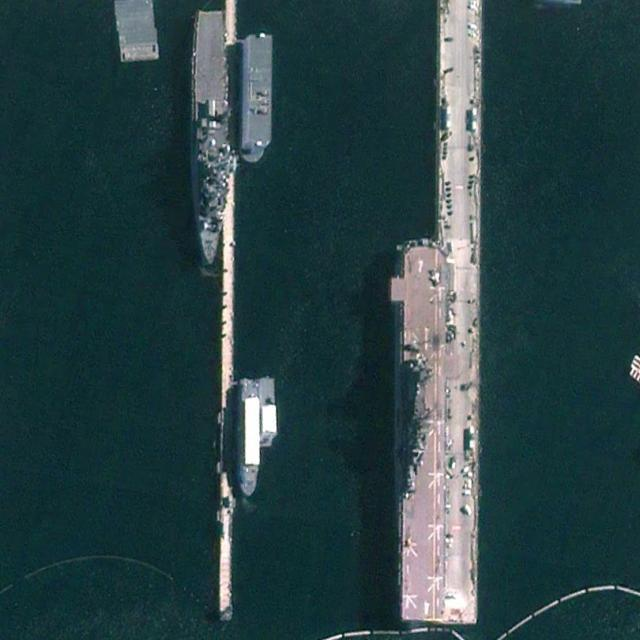Landing: (389, 236, 446, 625), (191, 9, 230, 263)
Other Ship: (243, 32, 274, 166), (235, 377, 260, 497)
